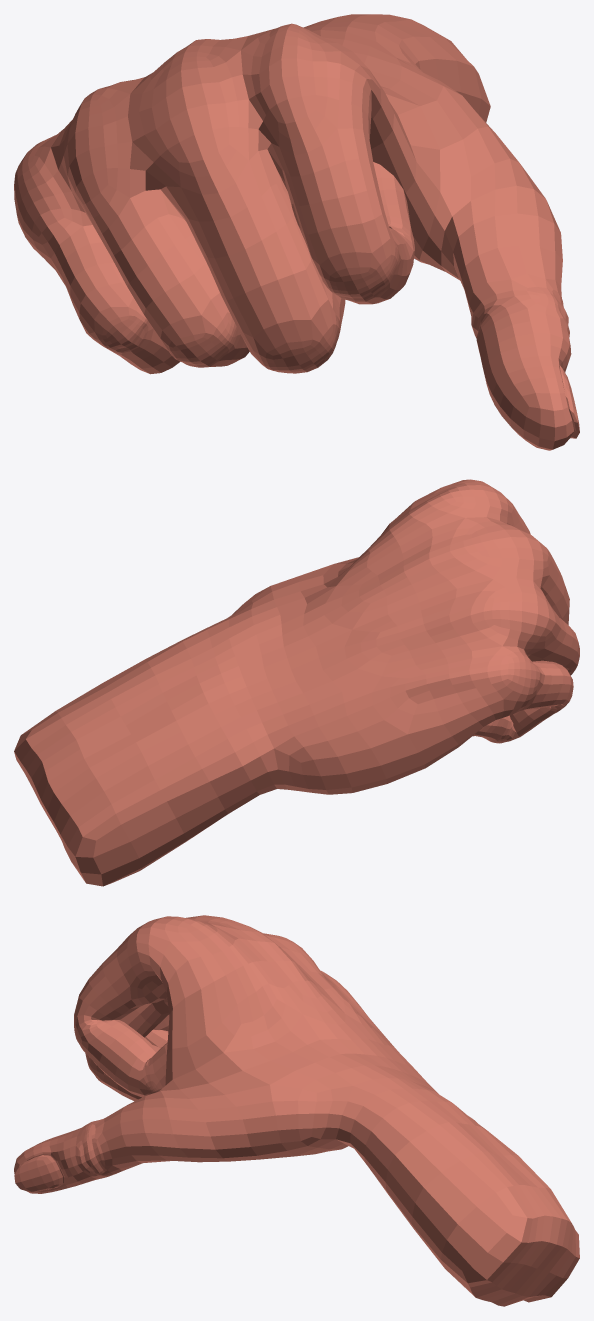
3 renders of one model, top to bottom at view 1: azimuth 30°, elevation 25°; view 2: azimuth 150°, elevation 25°; view 3: azimuth 270°, elevation 25°, orthographic. The views are drawn at different scales.
Parts seen in each view (by area): view 1: ZBrushPolyMesh3D; view 2: ZBrushPolyMesh3D; view 3: ZBrushPolyMesh3D.
Part boxes in pixels (box(x1,y1,x2,y2)): ZBrushPolyMesh3D: box(14, 14, 579, 450); ZBrushPolyMesh3D: box(14, 479, 579, 886); ZBrushPolyMesh3D: box(14, 915, 579, 1306).
Size of the model in its own units: 3.11 by 2.25 by 3.88.
